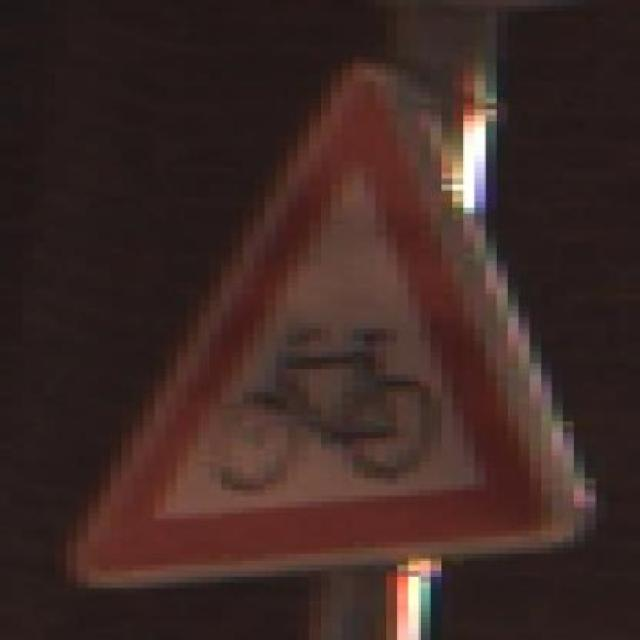CYCLE ROUTE AHEAD WARNING: (66, 40, 585, 623)
